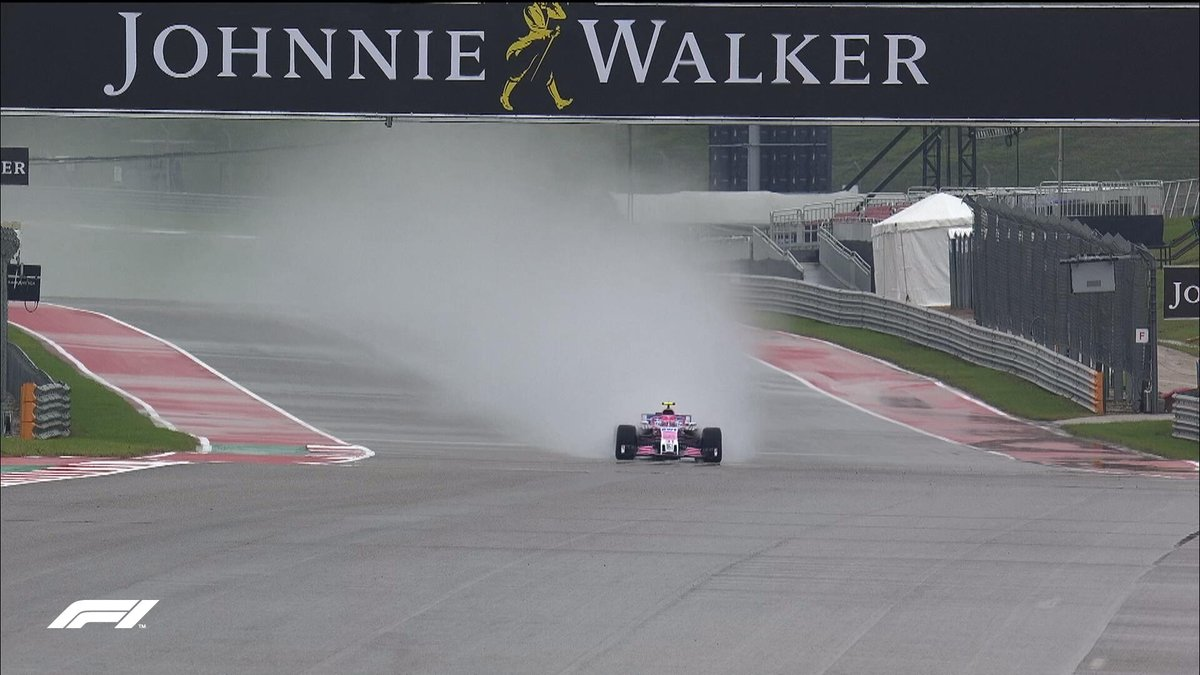f1_car: (602, 394, 736, 480)
